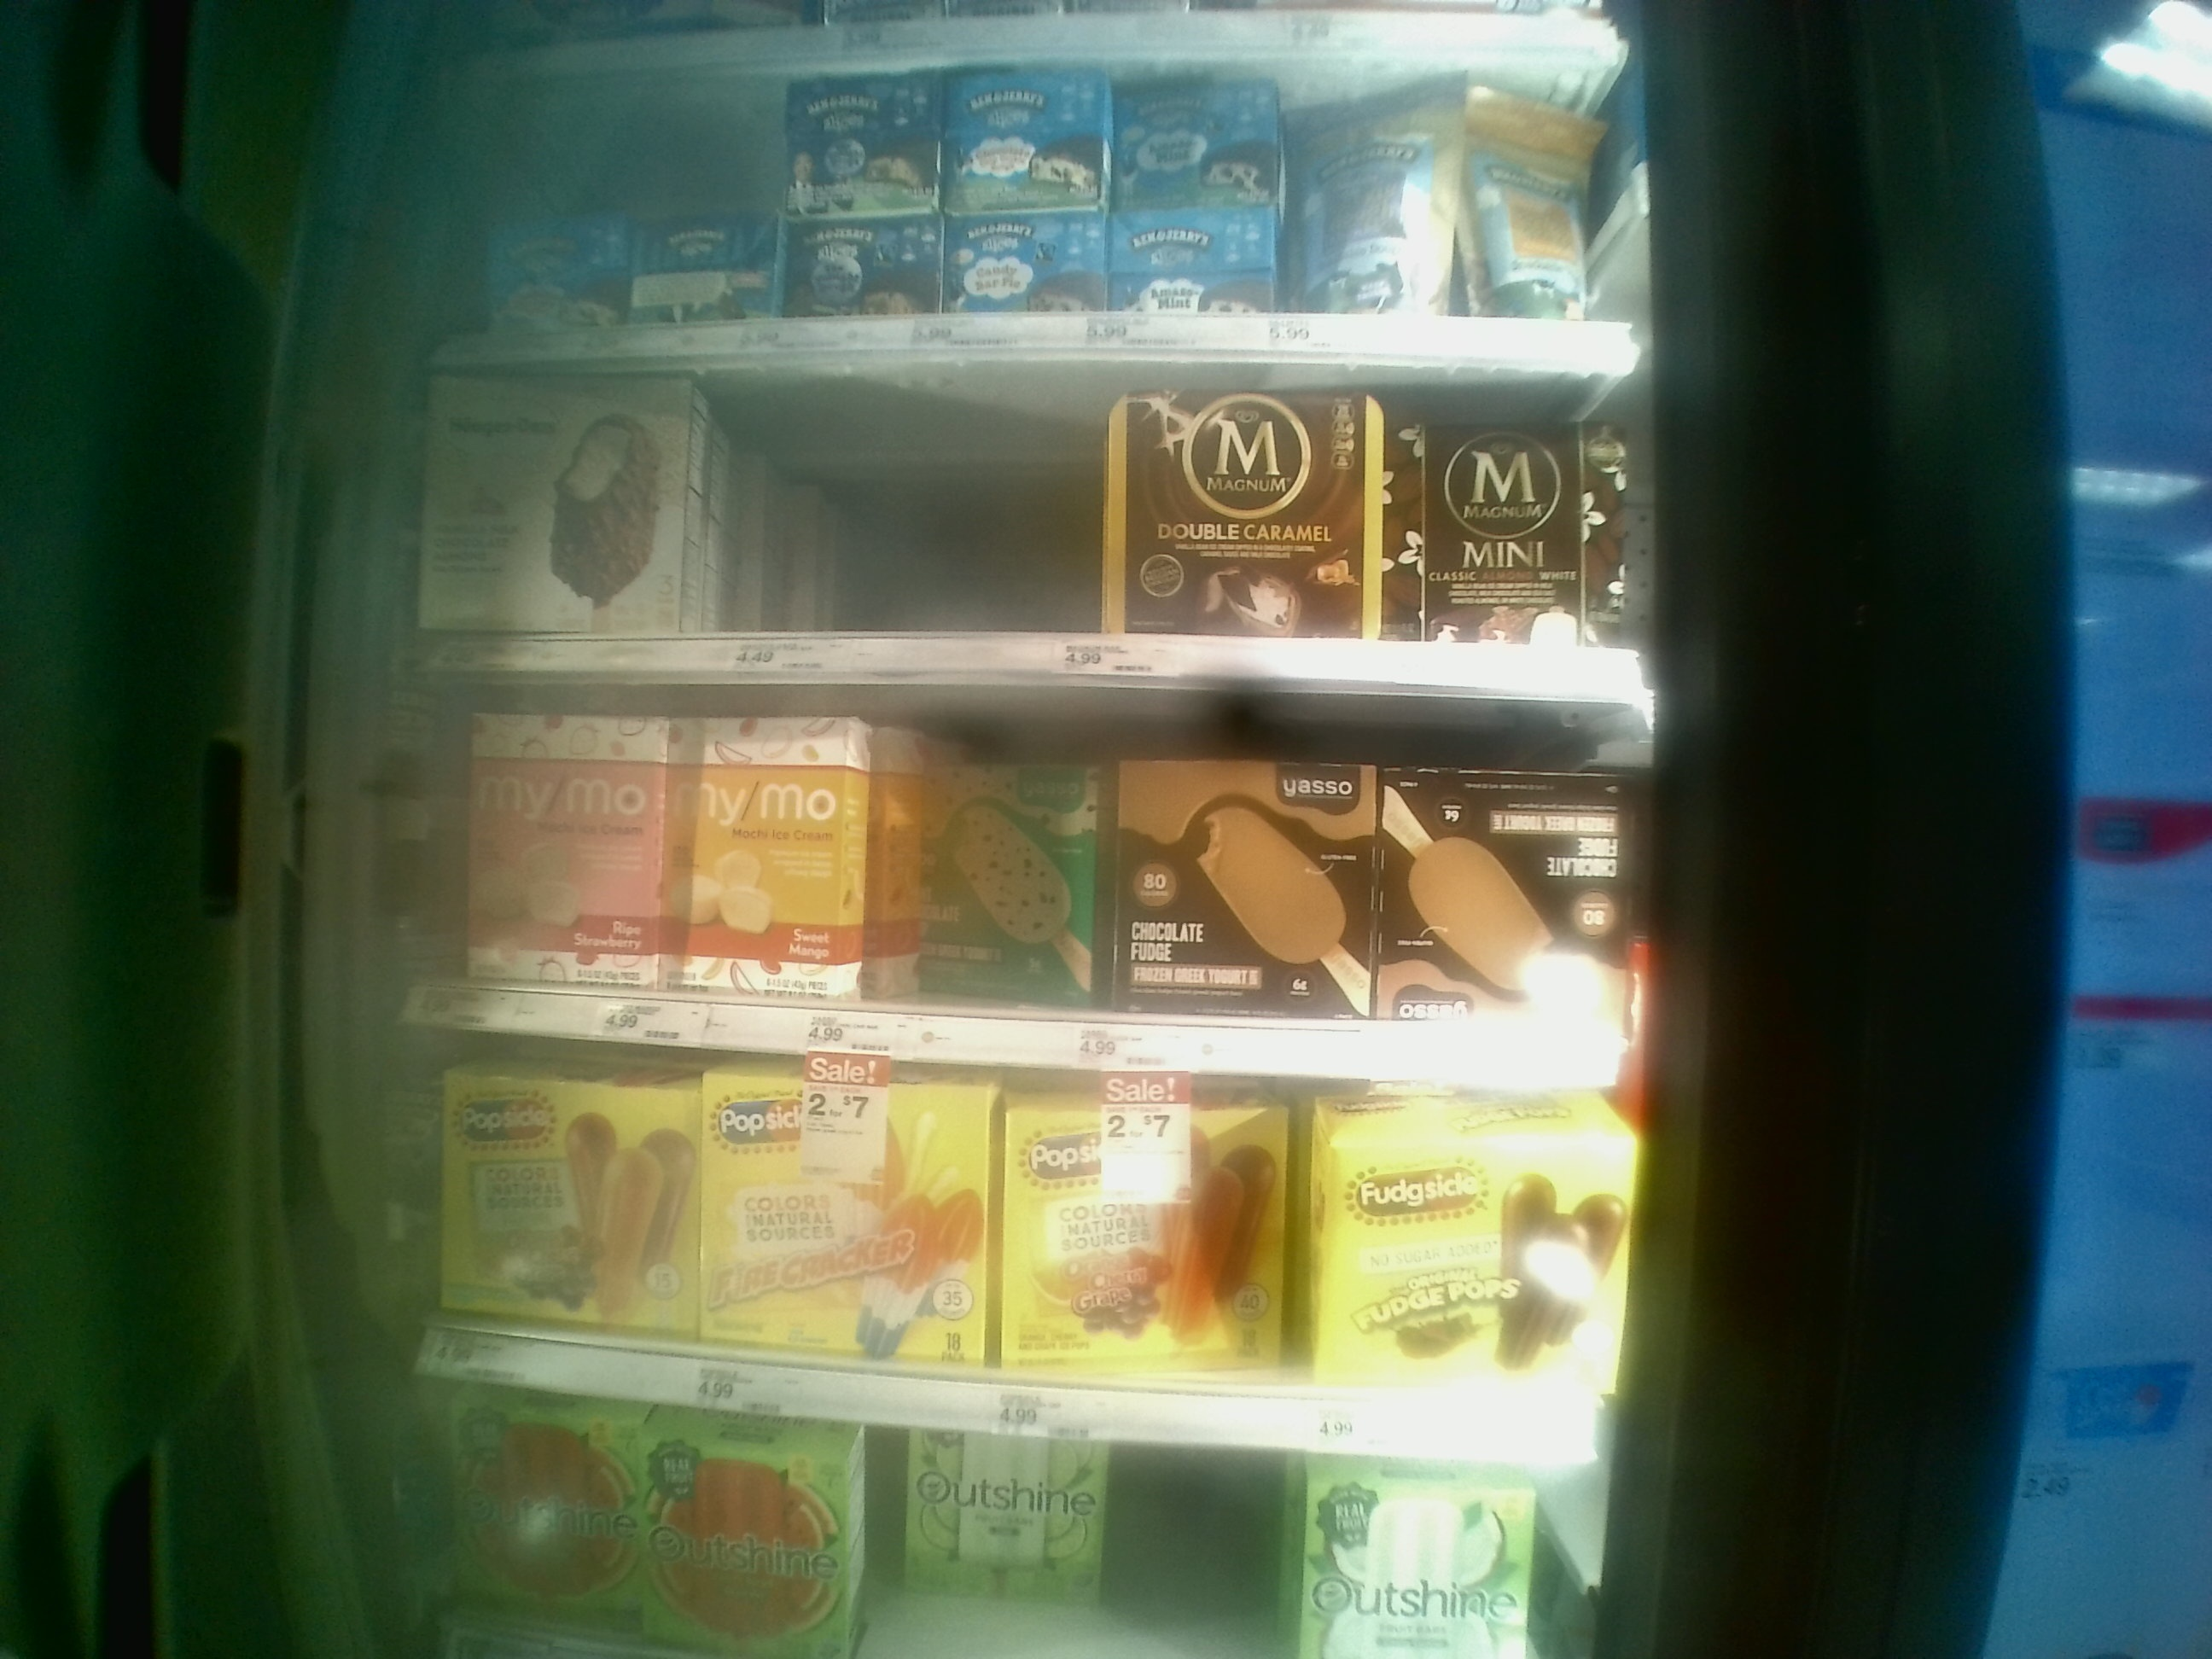ice-cream-shelf: (427, 1042, 1616, 1467), (420, 688, 1627, 1066), (415, 364, 1656, 688)
